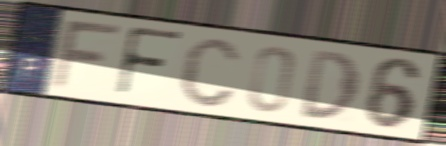0: (246, 43, 296, 114)
6: (361, 55, 424, 133)
C: (177, 34, 243, 110)
D: (299, 47, 362, 122)
F: (48, 19, 126, 92), (113, 23, 186, 100)
